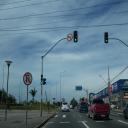NoVirarEsquerda: (67, 34, 73, 41)
NoVirarU: (22, 72, 33, 86)
